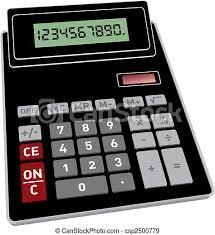Calculator: (3, 3, 215, 232)
